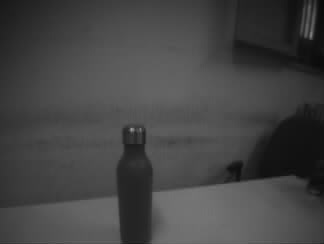Bottle: (116, 125, 155, 244)
